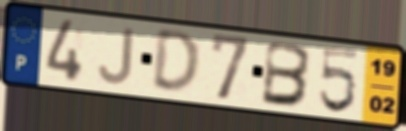4: (43, 16, 86, 84)
5: (317, 44, 360, 116)
7: (210, 31, 251, 104)
B: (259, 39, 316, 109)
D: (149, 29, 203, 98)
J: (96, 26, 137, 87)
